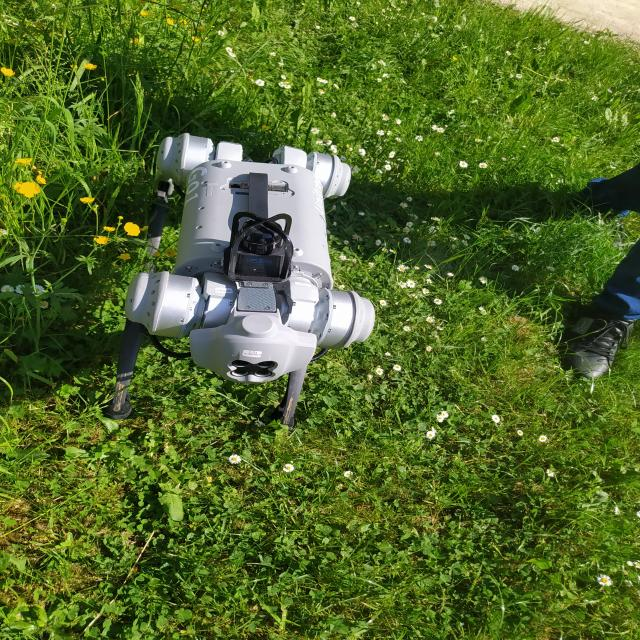unitree-go1-robot: (94, 123, 386, 439)
